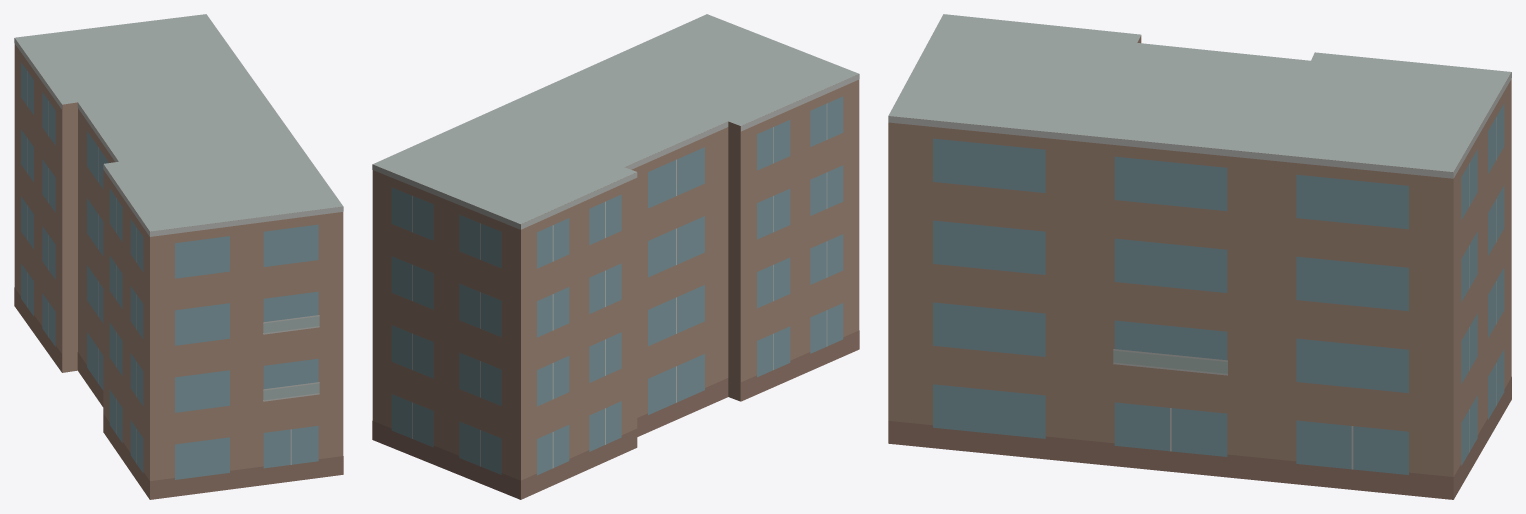
File: survey-upis-32527611.glb
3 renders of one model, left to right at view 1: azimuth 30°, elevation 25°; view 2: azimuth 150°, elevation 25°; view 3: azimuth 270°, elevation 25°, orthographic. The views are drawn at different scales.
Visible parts, largest first — view 1: survey-upis-32527611.tmp; view 2: survey-upis-32527611.tmp; view 3: survey-upis-32527611.tmp.
Part boxes in pixels (box(x1,y1,x2,y2)): survey-upis-32527611.tmp: box(14, 14, 343, 499); survey-upis-32527611.tmp: box(372, 14, 859, 499); survey-upis-32527611.tmp: box(888, 14, 1511, 499).
Size of the model in its own units: 12.63 by 12.19 by 21.03.
